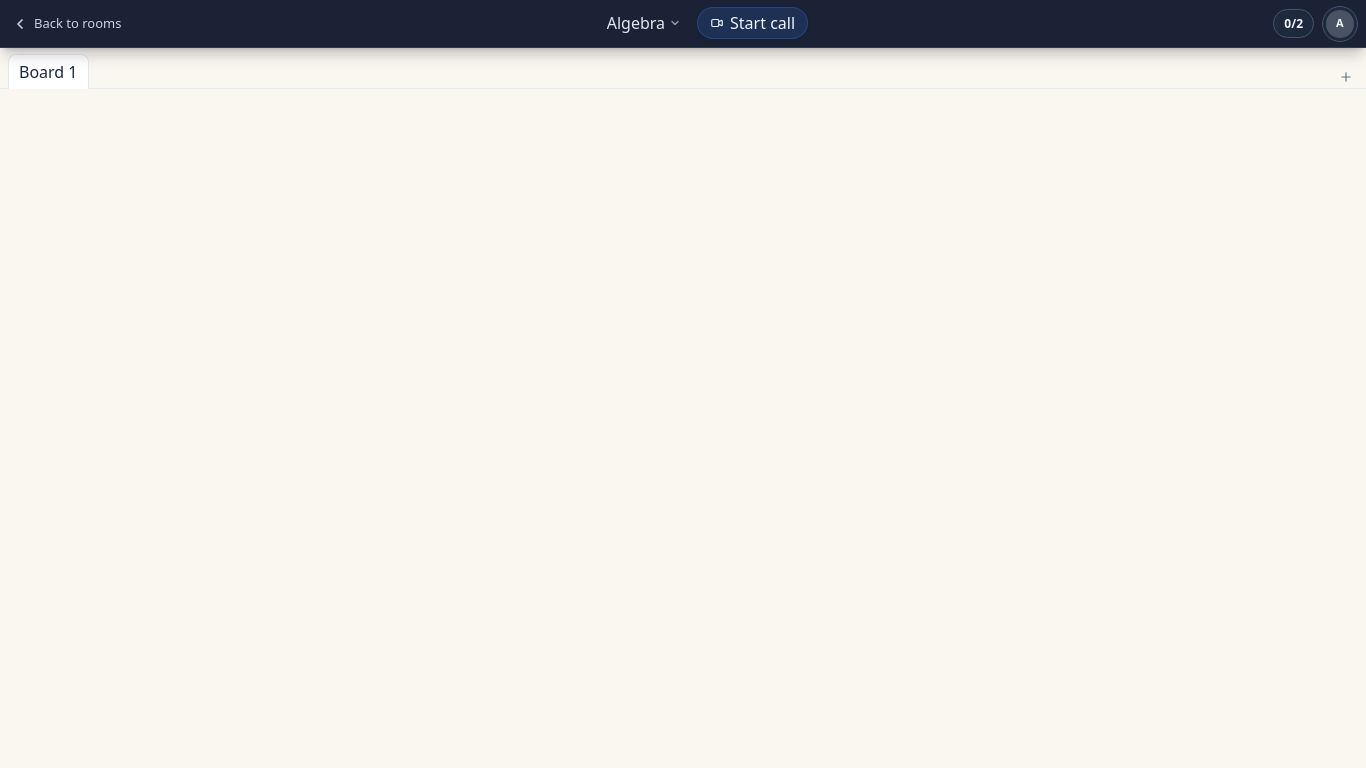
RoomContent main room › surfaces a refused kick as a moderation error
Click the button with test id "whiteboard-people-button" at (1294, 24), box [1273,9,1314,38]
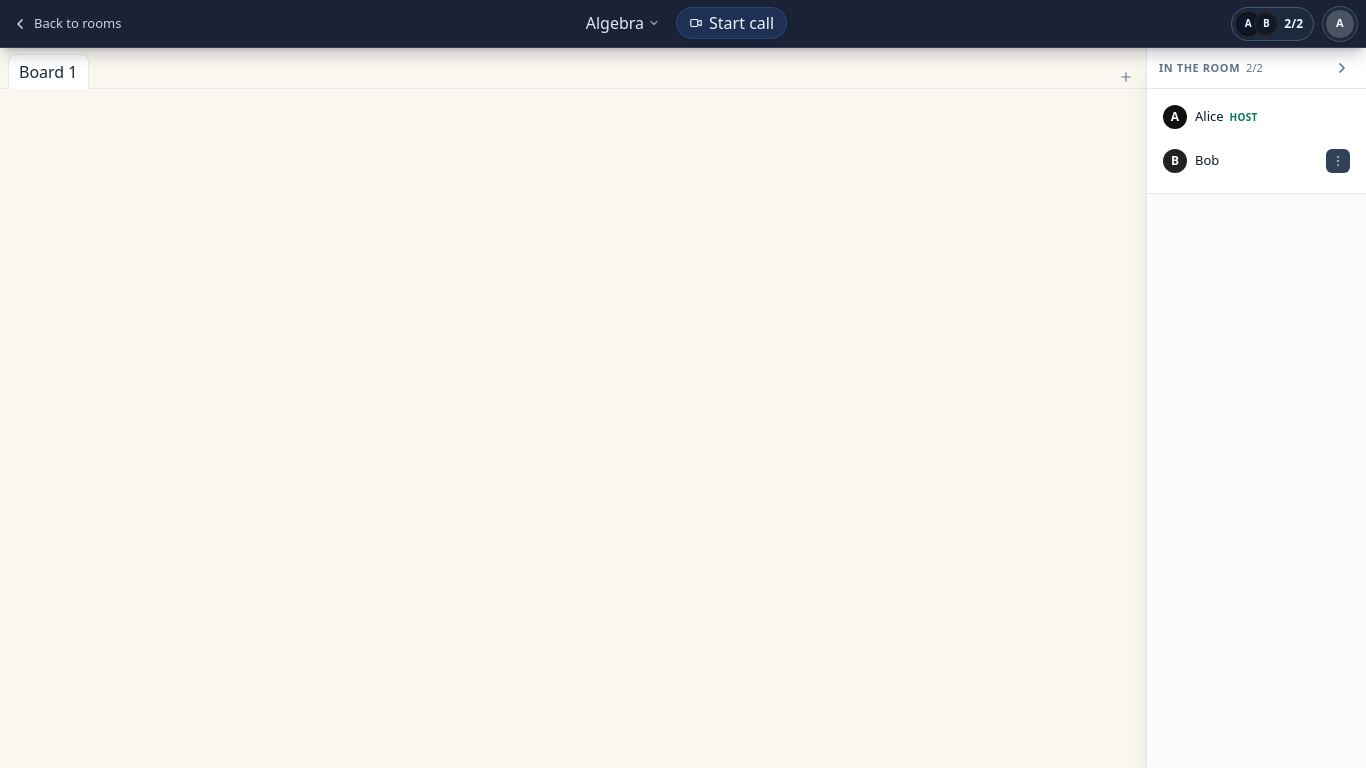
Click the button with test id "whiteboard-roster-open-peer-student" at (1252, 161), box [1195,150,1310,172]
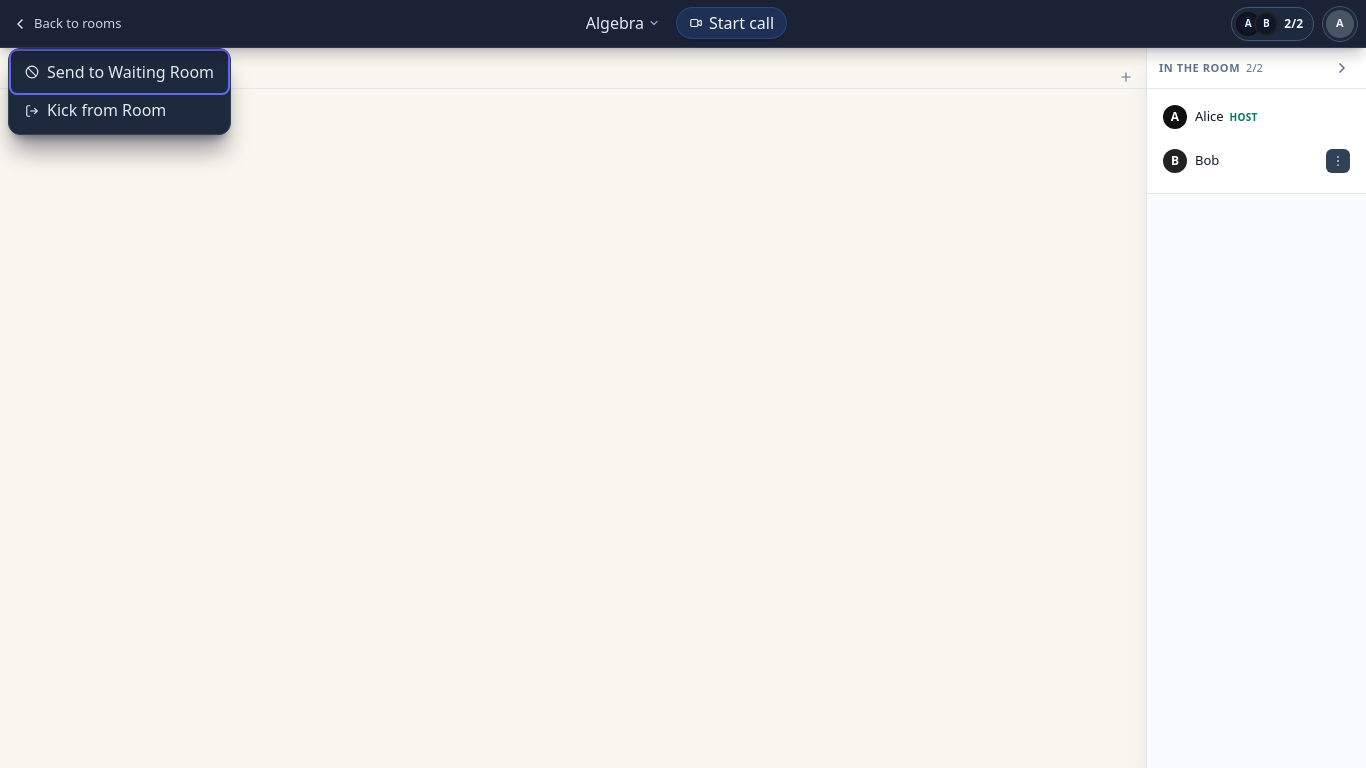
Click the menu item with test id "whiteboard-context-kick" at (120, 111), box [13,91,226,130]
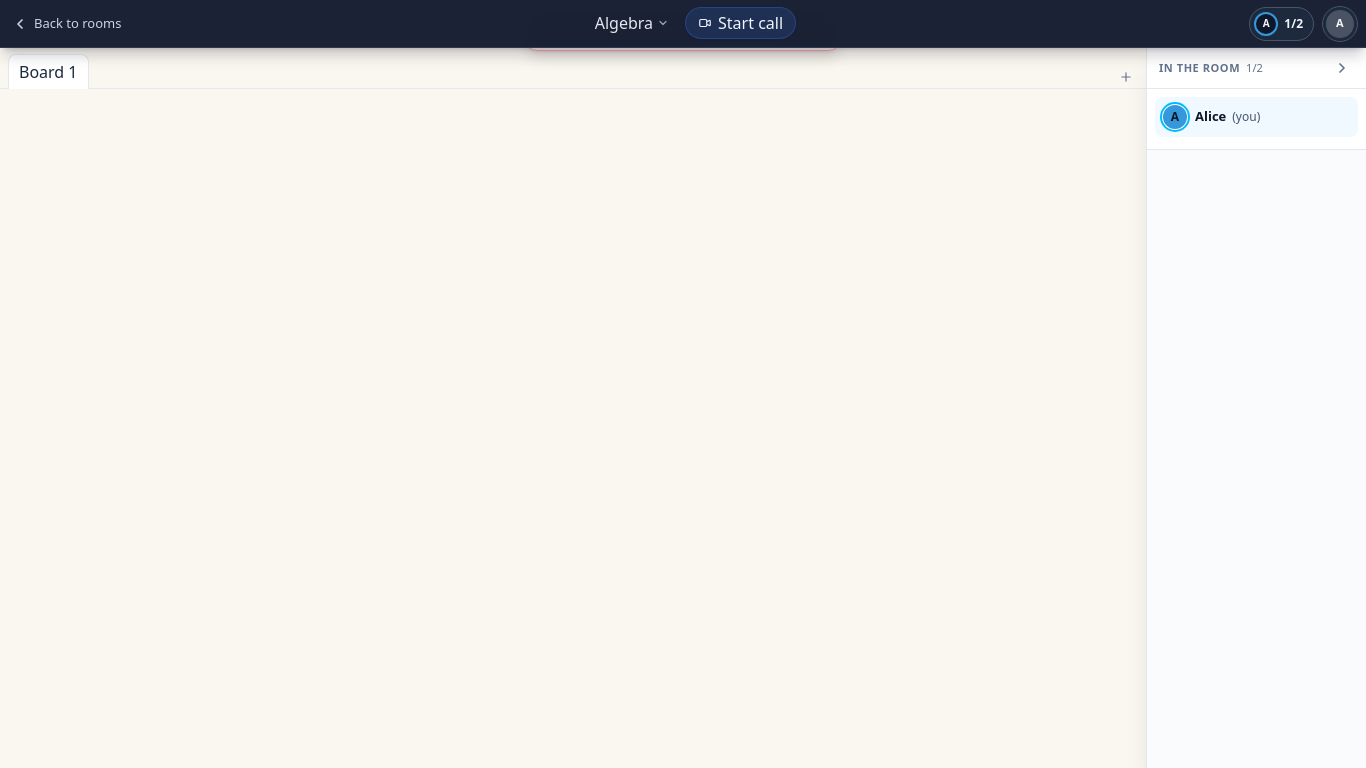
Result: the message "Could not remove that person. Please try again." is shown at [525,12,841,51]
